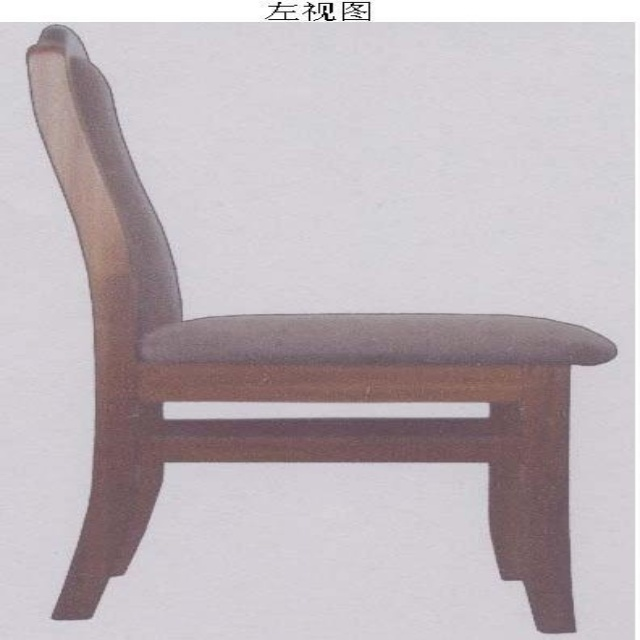obstacle: (27, 25, 614, 632)
